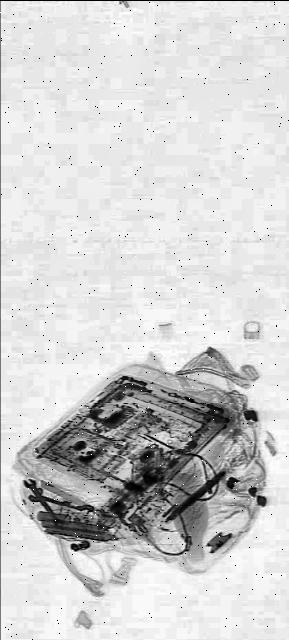Wrench: (22, 467, 61, 533), (27, 485, 93, 517)
